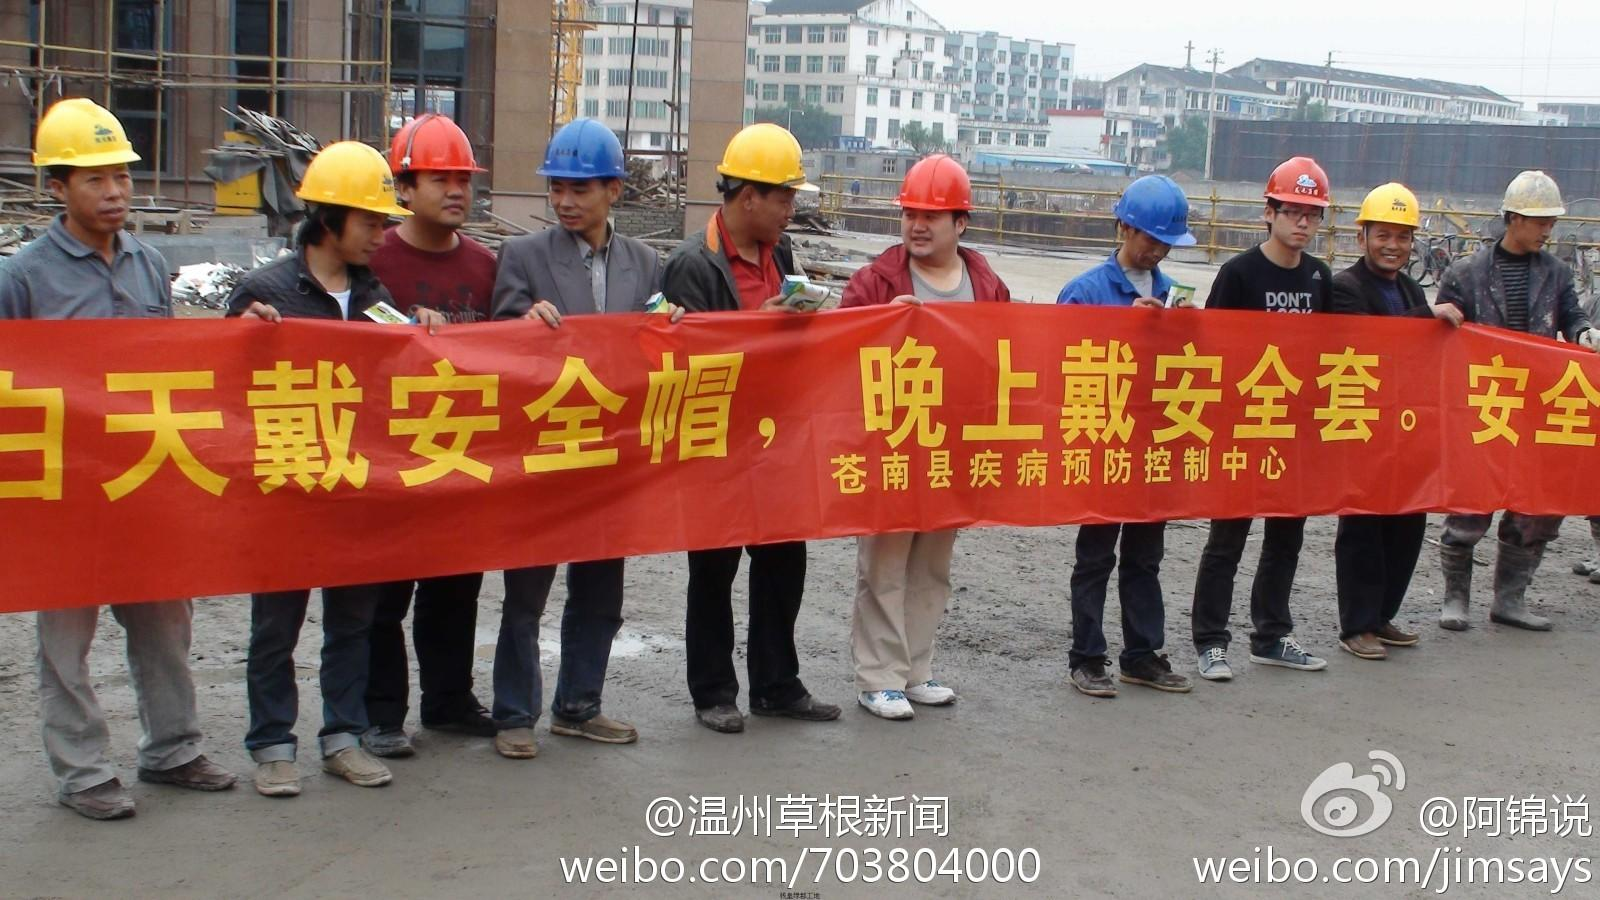helmet: (299, 142, 414, 222), (33, 96, 148, 168), (1116, 176, 1195, 249), (399, 119, 487, 179), (723, 126, 805, 188), (544, 119, 627, 176), (903, 155, 978, 216), (1267, 158, 1327, 210), (1362, 186, 1426, 232), (1507, 173, 1566, 221)
